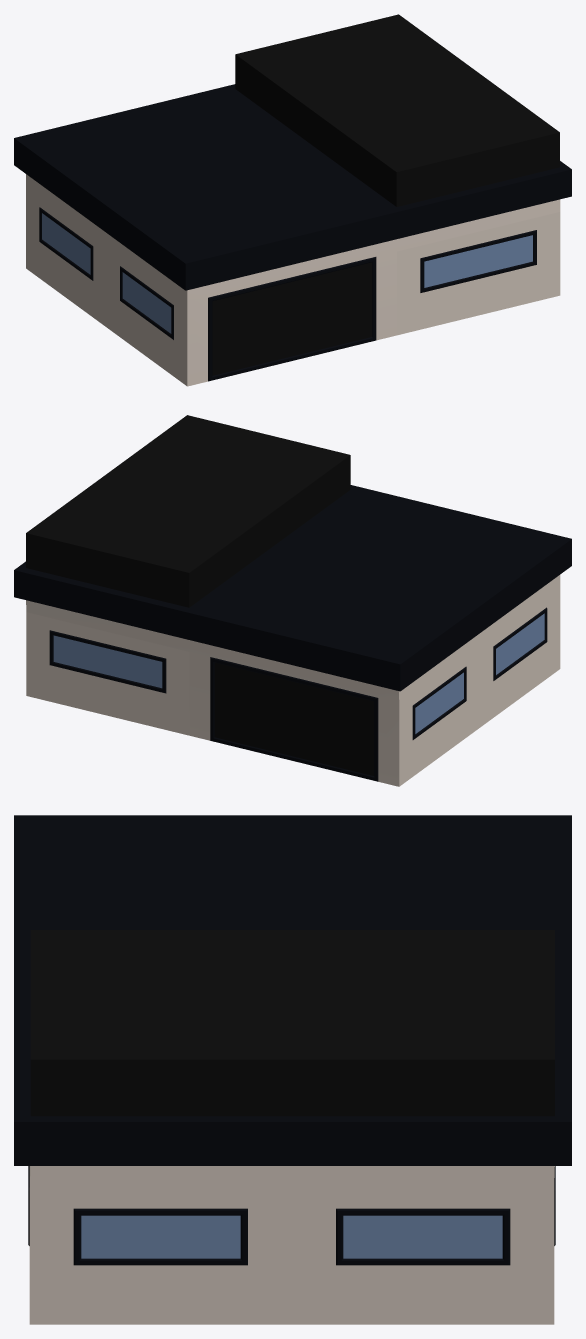
Rendered from Rover garage.FBX.
3 views of the same model, one above another, from view 1: azimuth 30°, elevation 25°; view 2: azimuth 150°, elevation 25°; view 3: azimuth 270°, elevation 25° (orthographic). The views are drawn at different scales.
Parts seen in each view (by area): view 1: Box003; view 2: Box003; view 3: Box003.
Boxes of the visible parts, bbox=[...] form: Box003: bbox=[14, 14, 571, 386]; Box003: bbox=[14, 415, 571, 786]; Box003: bbox=[14, 815, 571, 1324].
Size of the model in its own units: 120 by 48.44 by 92.43.
